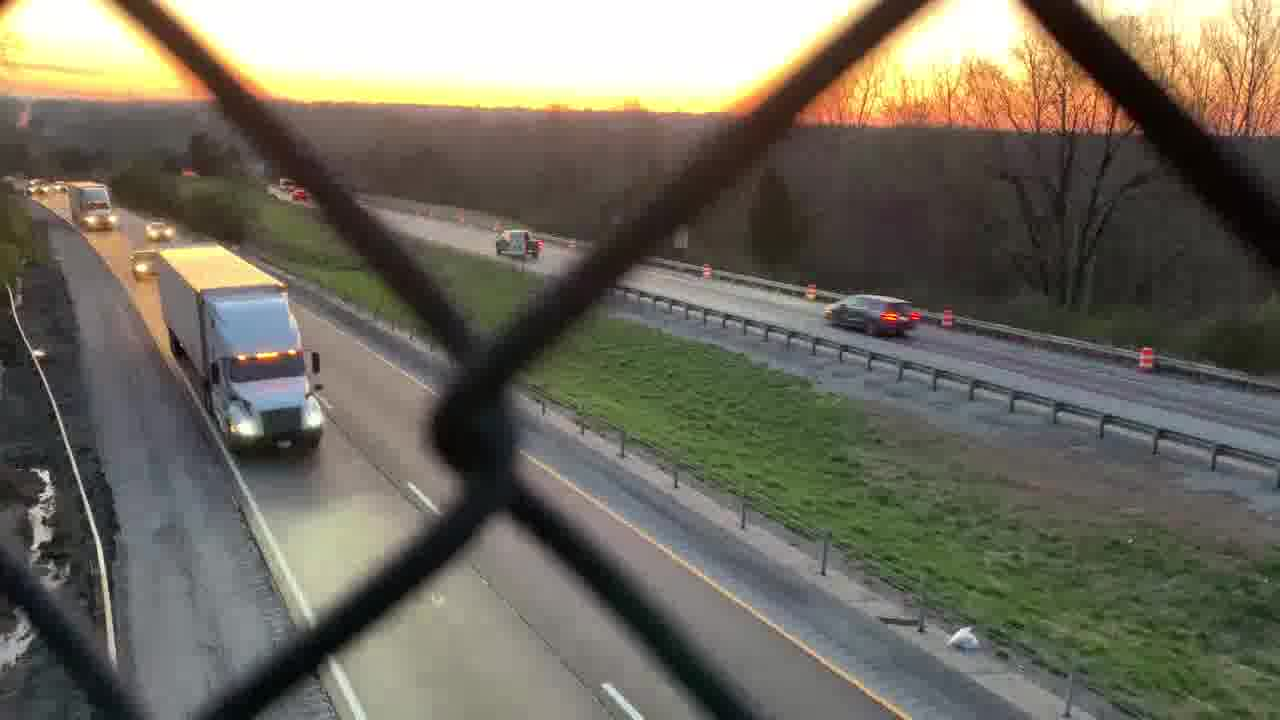heavyTruck: (160, 244, 326, 467), (69, 177, 116, 235)
largeCar: (825, 289, 920, 337)
lightTruck: (494, 225, 544, 256)
smallCar: (132, 247, 159, 277), (145, 219, 172, 238)
vehicle: (26, 172, 54, 194), (54, 178, 77, 193)
